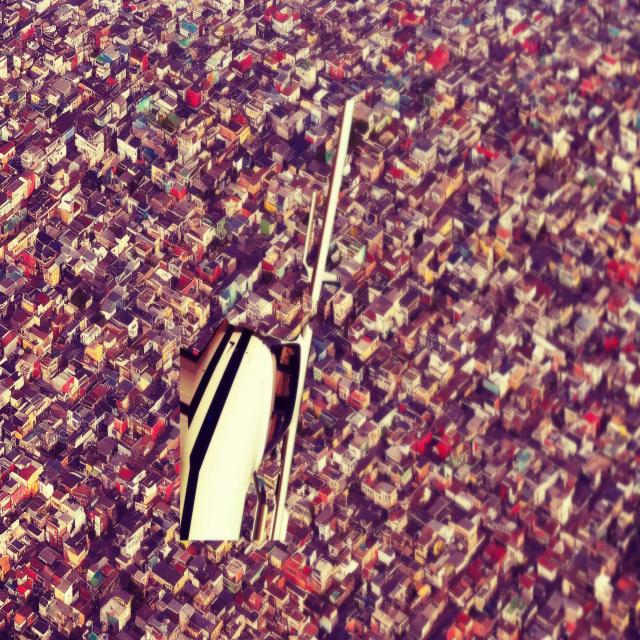airplane: (180, 98, 354, 539)
